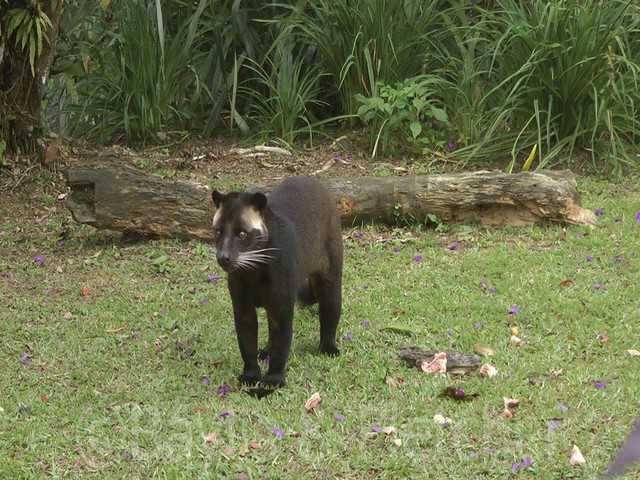civet: (211, 174, 347, 389)
